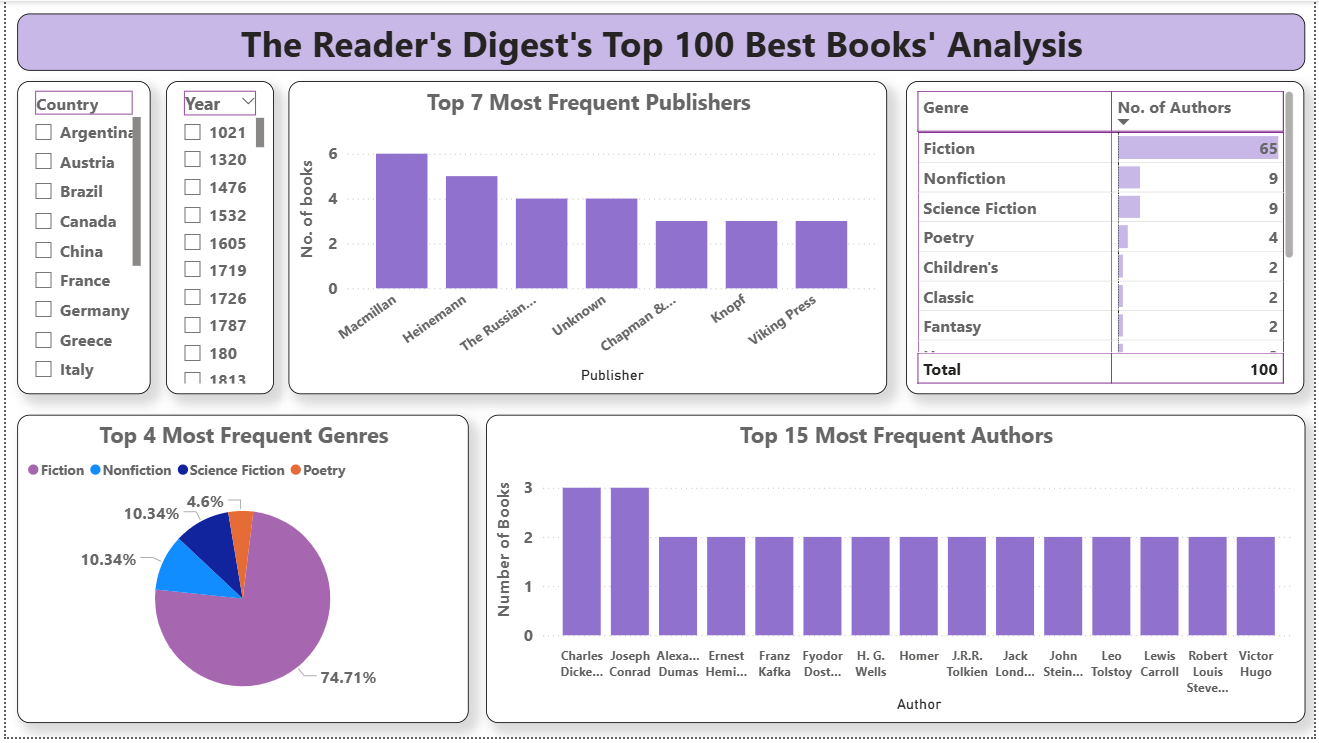

This screenshot's page, from the dashboard's own definition file:
{"tool":"powerbi","page":{"name":"Reader's digest","canvas":[1280,720],"ordinal":5},"visuals":[{"type":"columnChart","title":"Top 7 Most Frequent Publishers","fields":{"Category":["Reader's digest.Publisher"],"Y":["CountNonNull(Reader's digest.Title)"]},"box":[275.8,78.2,585.9,306],"z":0},{"type":"pieChart","title":"Top 4 Most Frequent Genres","fields":{"Category":["Reader's digest.Genre"],"Y":["CountNonNull(Reader's digest.Title)"]},"box":[11,404.8,441.9,301.9],"z":1000},{"type":"tableEx","fields":{"Values":["Reader's digest.Genre","Reader's digest.Author"]},"box":[881,78.2,389.7,306],"z":2000},{"type":"slicer","fields":{"Values":["Reader's digest.Publication_year"]},"box":[156.4,78.2,105.7,306],"z":3000},{"type":"slicer","fields":{"Values":["Reader's digest.Publication_country"]},"box":[11,78.2,130.4,306],"z":4000},{"type":"columnChart","title":"Top 15 Most Frequent Authors","fields":{"Y":["CountNonNull(Reader's digest.Title)"],"Category":["Reader's digest.Author"]},"box":[469.3,404.8,801.4,301.9],"z":5000},{"type":"textbox","title":"The Reader''s Digest''s Top 100 Best Books'' Analysis","box":[11,12.3,1259.7,56.3],"z":6000}]}

Visuals, with their boxes in screenshot pixels (x1, y1, x2, y2), scaled from the page's 1280x720 canvas onto the 1319x743 screenshot:
"Top 7 Most Frequent Publishers" columnChart: region(284, 81, 888, 396)
"Top 4 Most Frequent Genres" pieChart: region(11, 418, 467, 729)
tableEx - Reader's digest.Genre x Reader's digest.Author: region(908, 81, 1309, 396)
slicer - Reader's digest.Publication_year: region(161, 81, 270, 396)
slicer - Reader's digest.Publication_country: region(11, 81, 146, 396)
"Top 15 Most Frequent Authors" columnChart: region(484, 418, 1309, 729)
"The Reader''s Digest''s Top 100 Best Books'' Analysis" textbox: region(11, 13, 1309, 71)
